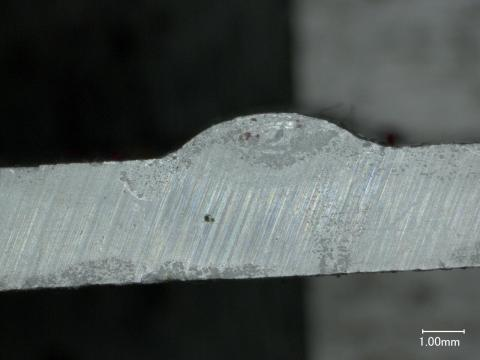test: (168, 112, 388, 155)
